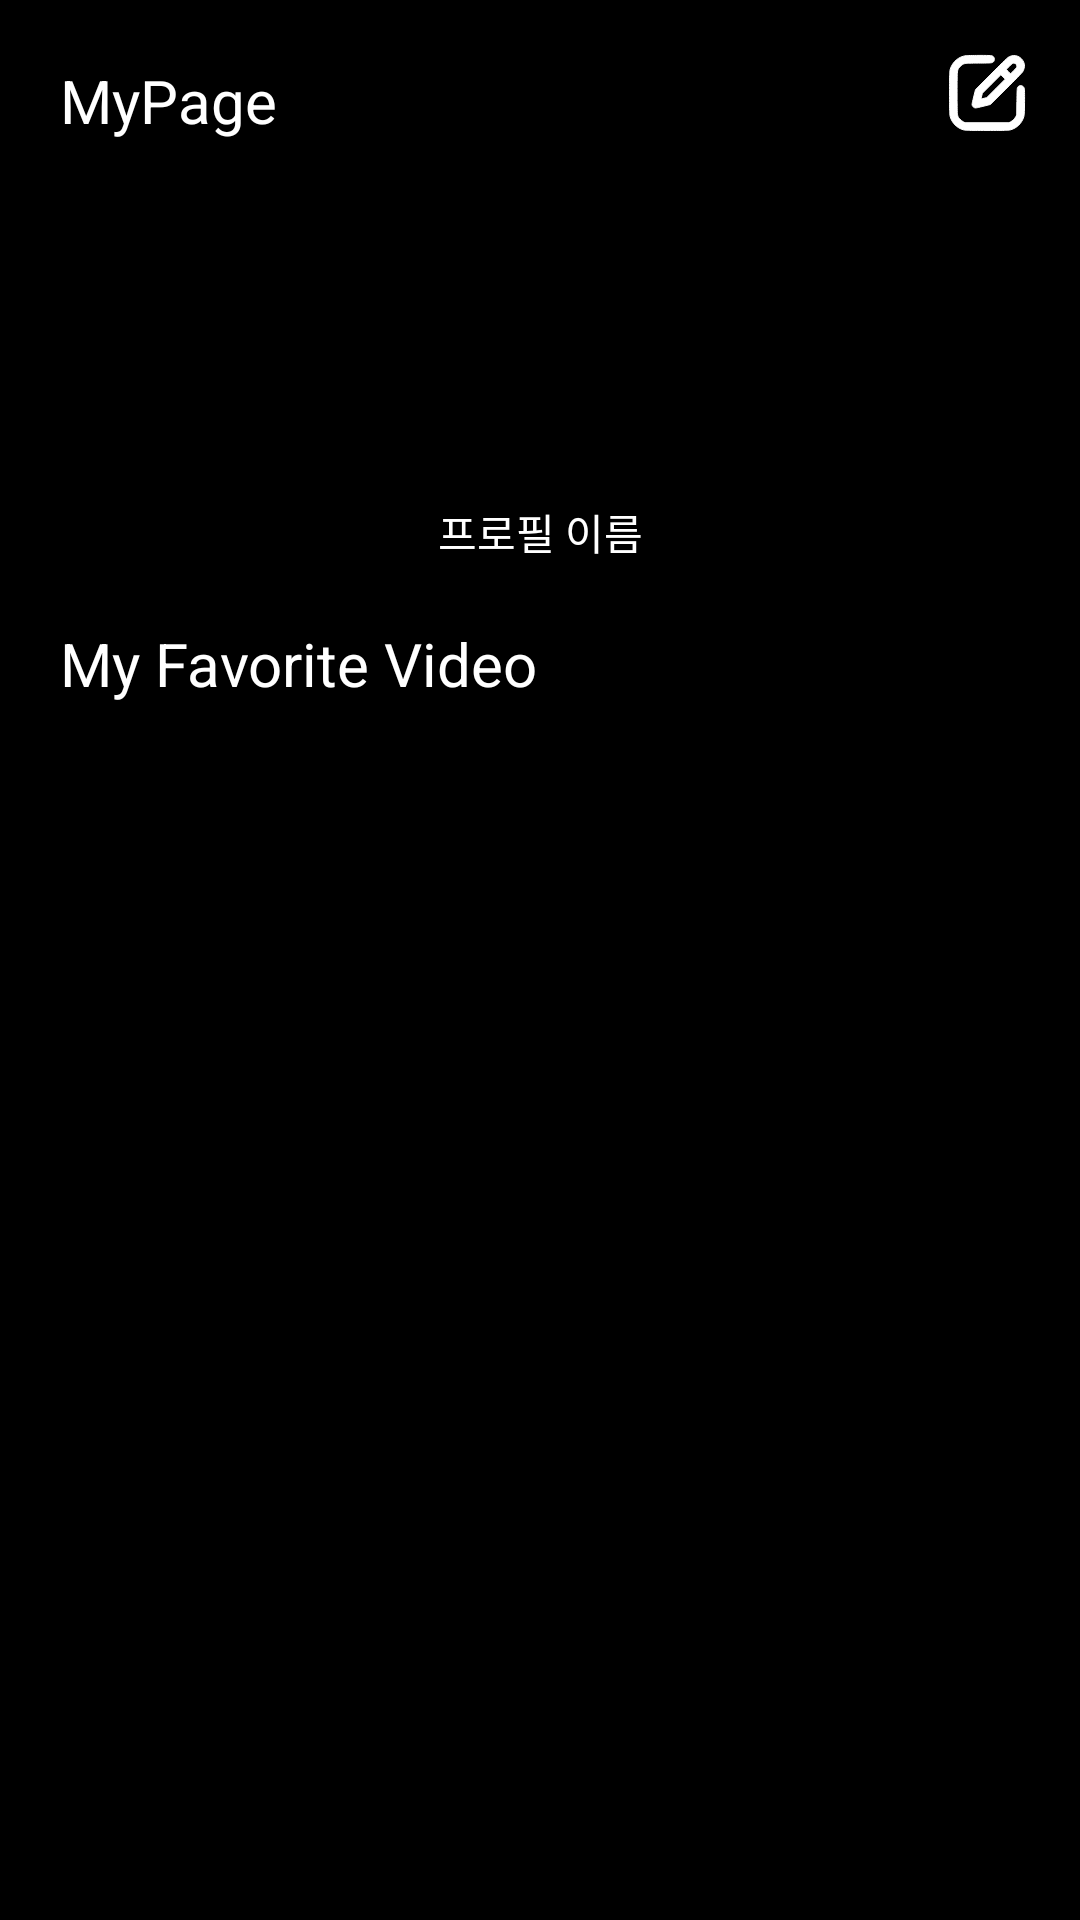

Screen size 1080w x 1920h. Icon name, then its center in pixels as (x=x, y=y):
edit: (x=987, y=93)
